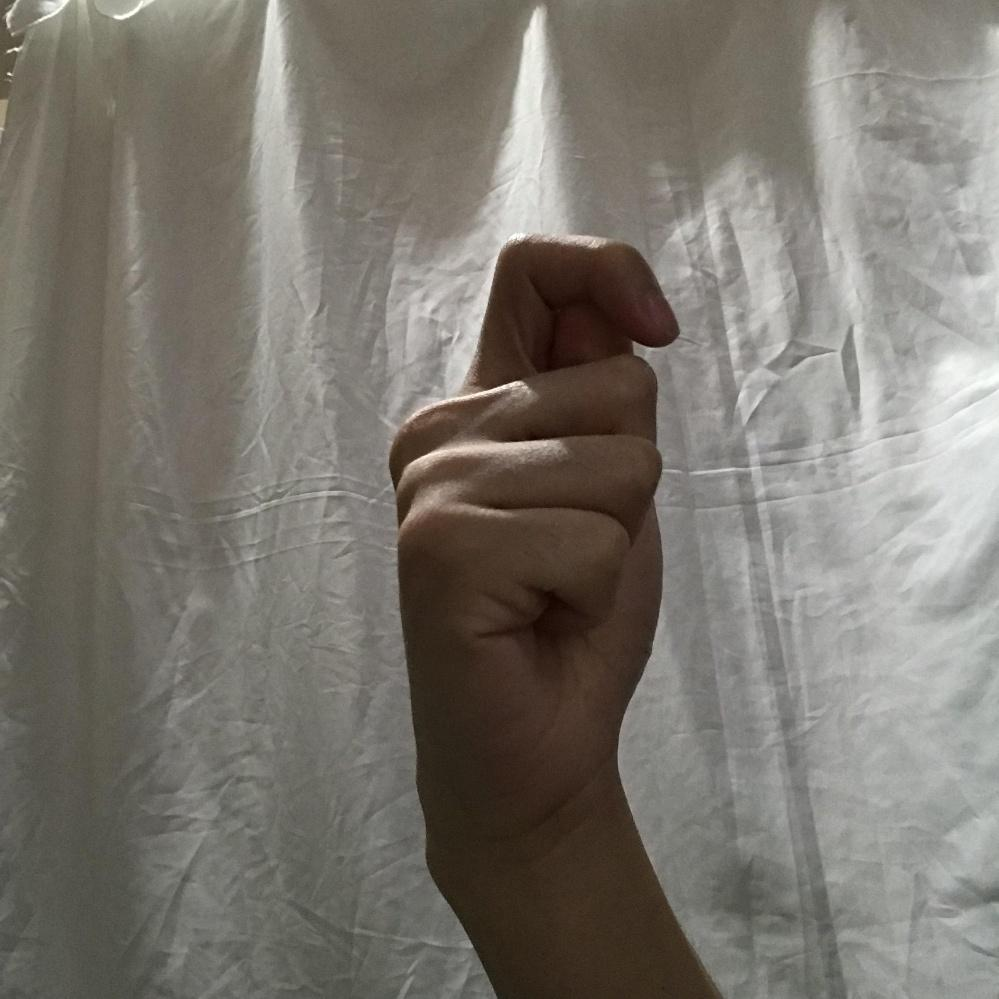t: (387, 227, 679, 836)
